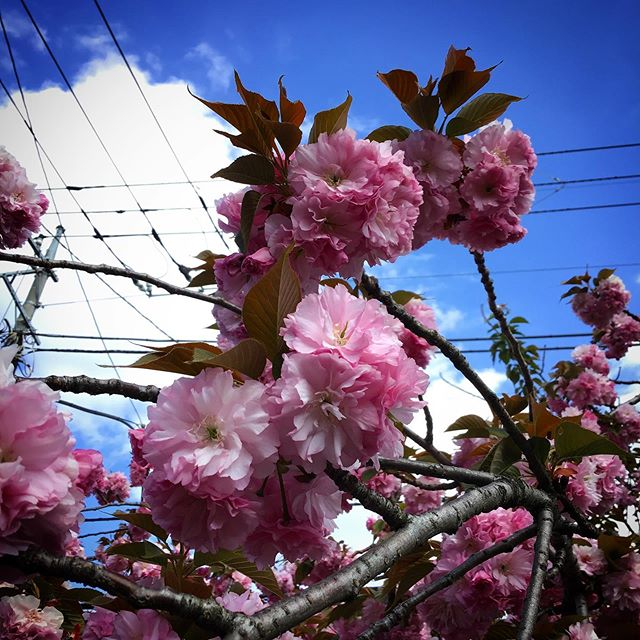flowers: (16, 153, 640, 640)
sky: (1, 1, 634, 251)
